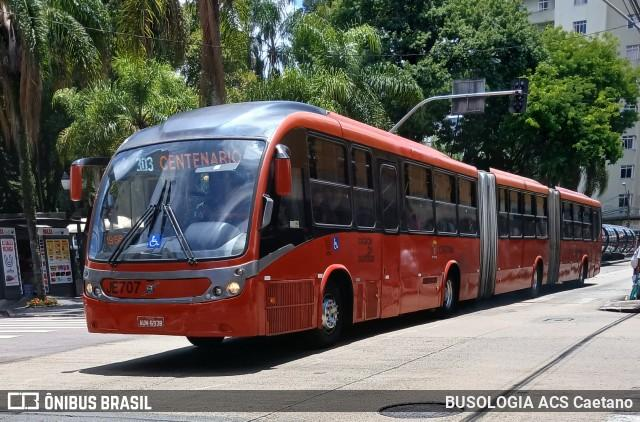CENTENARIO: (155, 146, 244, 175)
